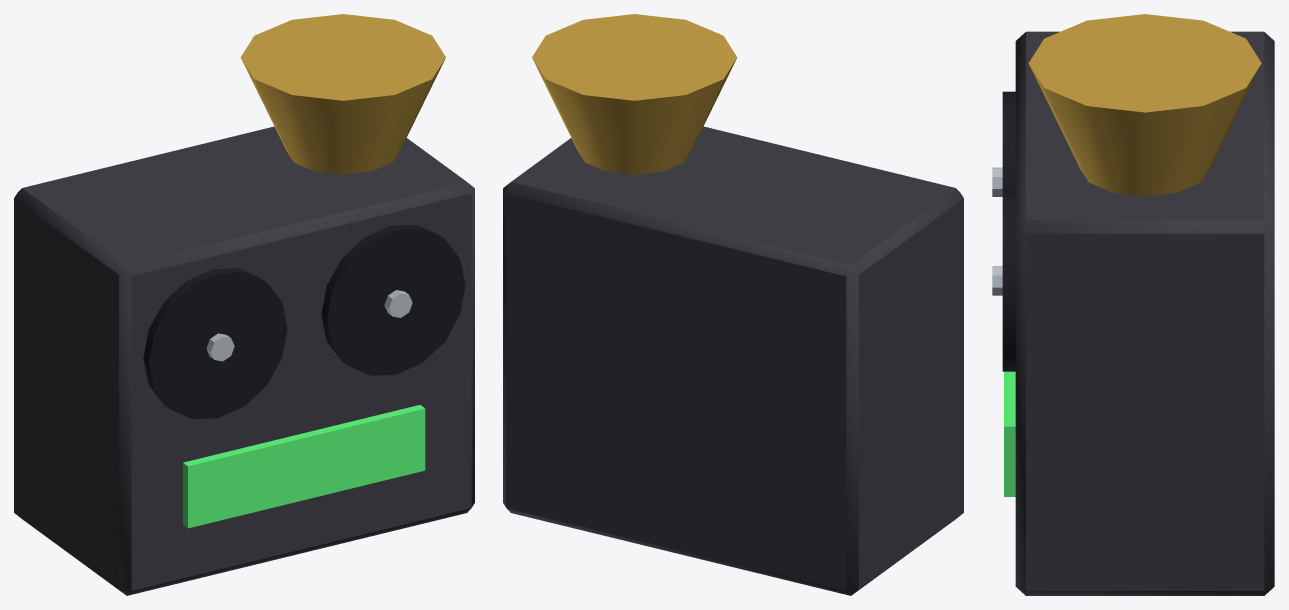
Rendered from laugh_machine.glb.
3 views of the same model, side by side, from view 1: azimuth 30°, elevation 25°; view 2: azimuth 150°, elevation 25°; view 3: azimuth 270°, elevation 25° (orthographic). The views are drawn at different scales.
Parts seen in each view (by area): view 1: laugh_machine; view 2: laugh_machine; view 3: laugh_machine.
Part boxes in pixels (x1,y1,x2,y2): laugh_machine: [14, 14, 474, 595]; laugh_machine: [503, 14, 963, 595]; laugh_machine: [992, 14, 1274, 595].
Size of the model in its own units: 1.85 by 2.1 by 1.09.
